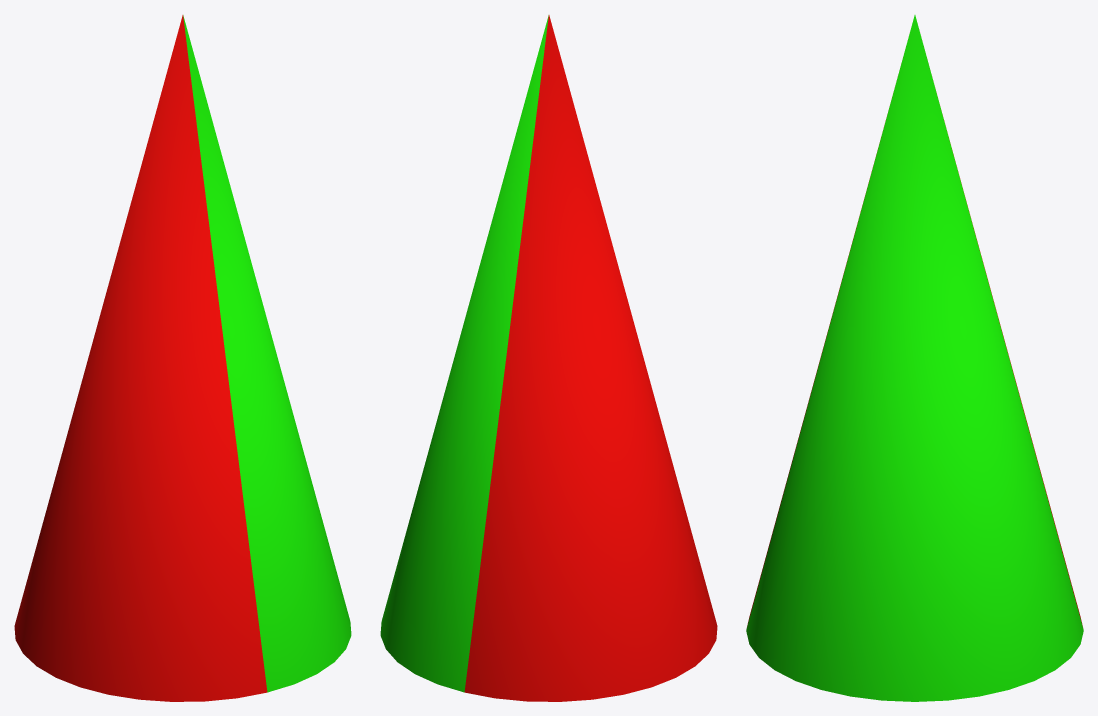
The model's file is hat.fbx.
The picture shows the model from 3 angles, left to right: view 1: azimuth 30°, elevation 25°; view 2: azimuth 150°, elevation 25°; view 3: azimuth 270°, elevation 25°; orthographic projection.
Parts seen in each view (by area): view 1: 锥体; view 2: 锥体; view 3: 锥体.
Boxes of the visible parts, x1,y1,x2,y2 form: 锥体: (14, 15, 351, 701); 锥体: (380, 15, 717, 701); 锥体: (746, 15, 1083, 701).
Size of the model in its own units: 130 by 130 by 261.
